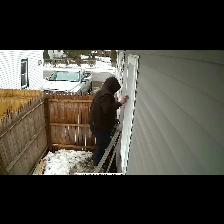person: (89, 77, 128, 165)
